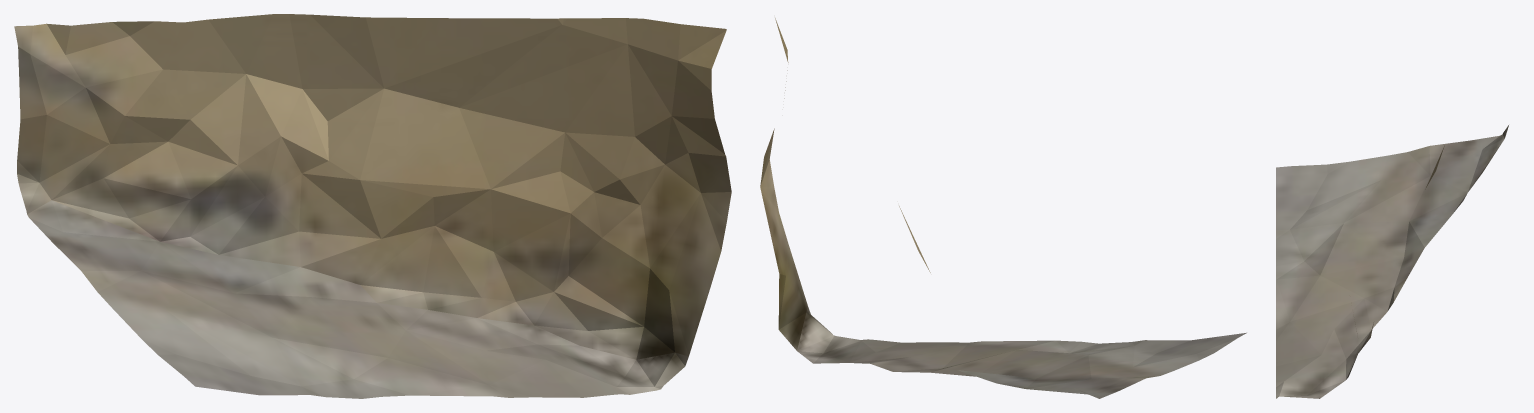
The picture shows the model from 3 angles, left to right: view 1: azimuth 30°, elevation 25°; view 2: azimuth 150°, elevation 25°; view 3: azimuth 270°, elevation 25°; orthographic projection. The views are drawn at different scales.
Bounding box in the file's own units: 1.44 × 0.8857 × 0.8423.
Materials: 1 (1 with a texture image).
